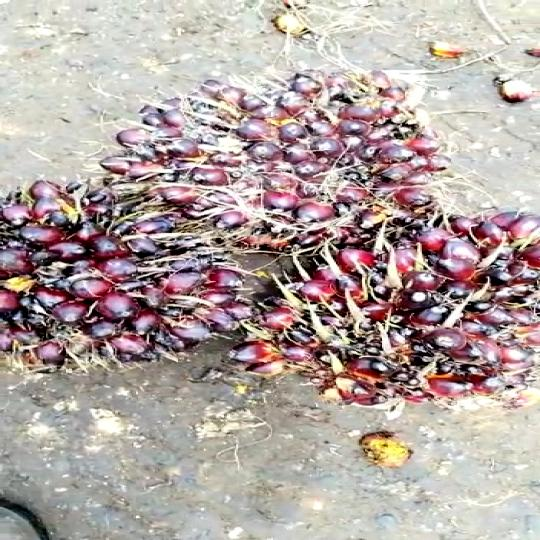kurang masak: (225, 186, 540, 419), (102, 75, 487, 263), (0, 174, 272, 388)
